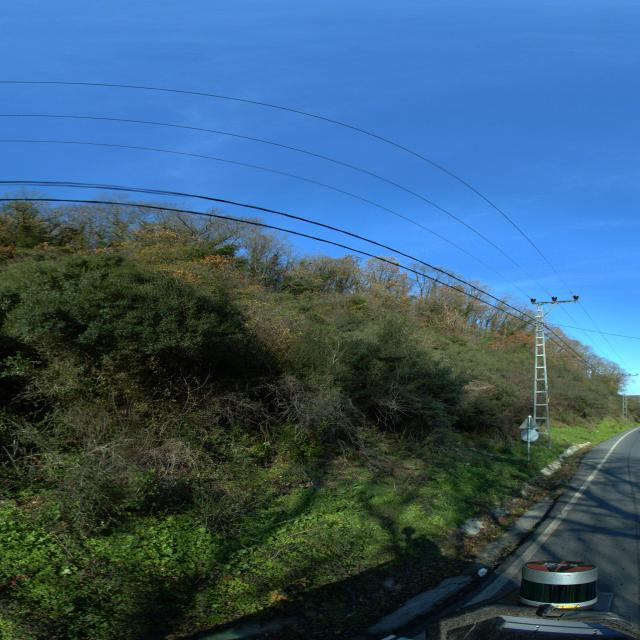Utility Pole Information Plate: (547, 398, 550, 402), (546, 386, 548, 389)
